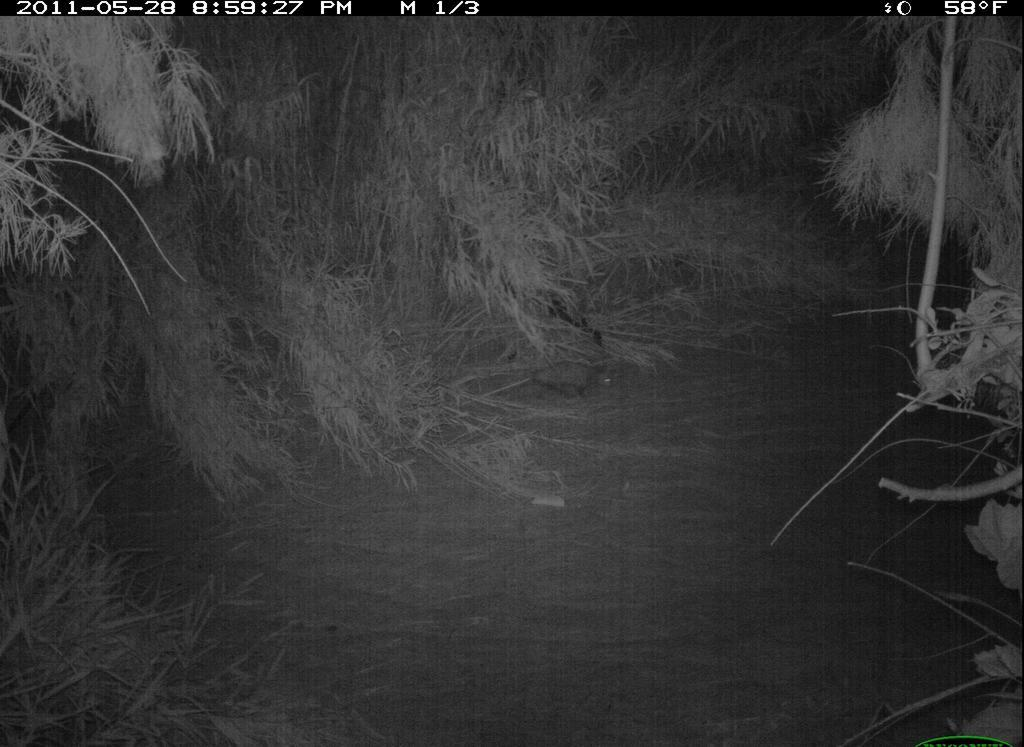opossum: (519, 340, 639, 422)
